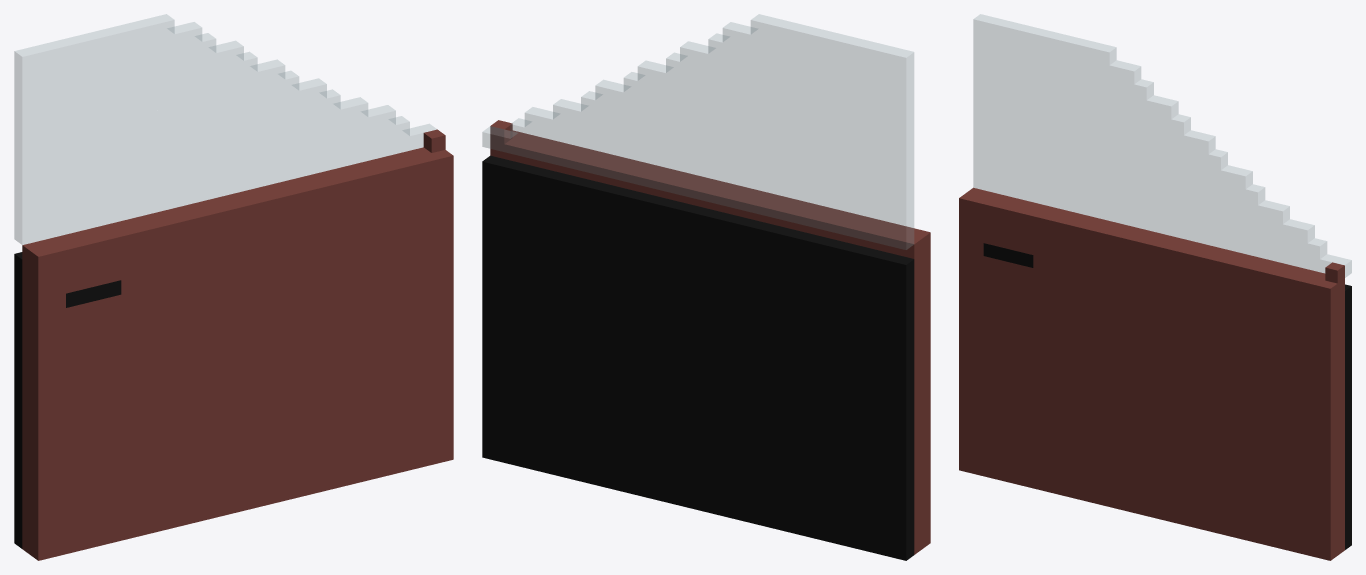
Rendered from hatchback_front_door.glb.
3 views of the same model, side by side, from view 1: azimuth 30°, elevation 25°; view 2: azimuth 150°, elevation 25°; view 3: azimuth 330°, elevation 25° (orthographic). The views are drawn at different scales.
Visible parts, largest first — view 1: body:compound; view 2: body:compound; view 3: body:compound.
Part boxes in pixels (x1,y1,x2,y2): body:compound: (14,14,453,560); body:compound: (482,14,930,560); body:compound: (959,14,1351,560).
Size of the model in its own units: 0.9375 by 1.06 by 0.0938.
